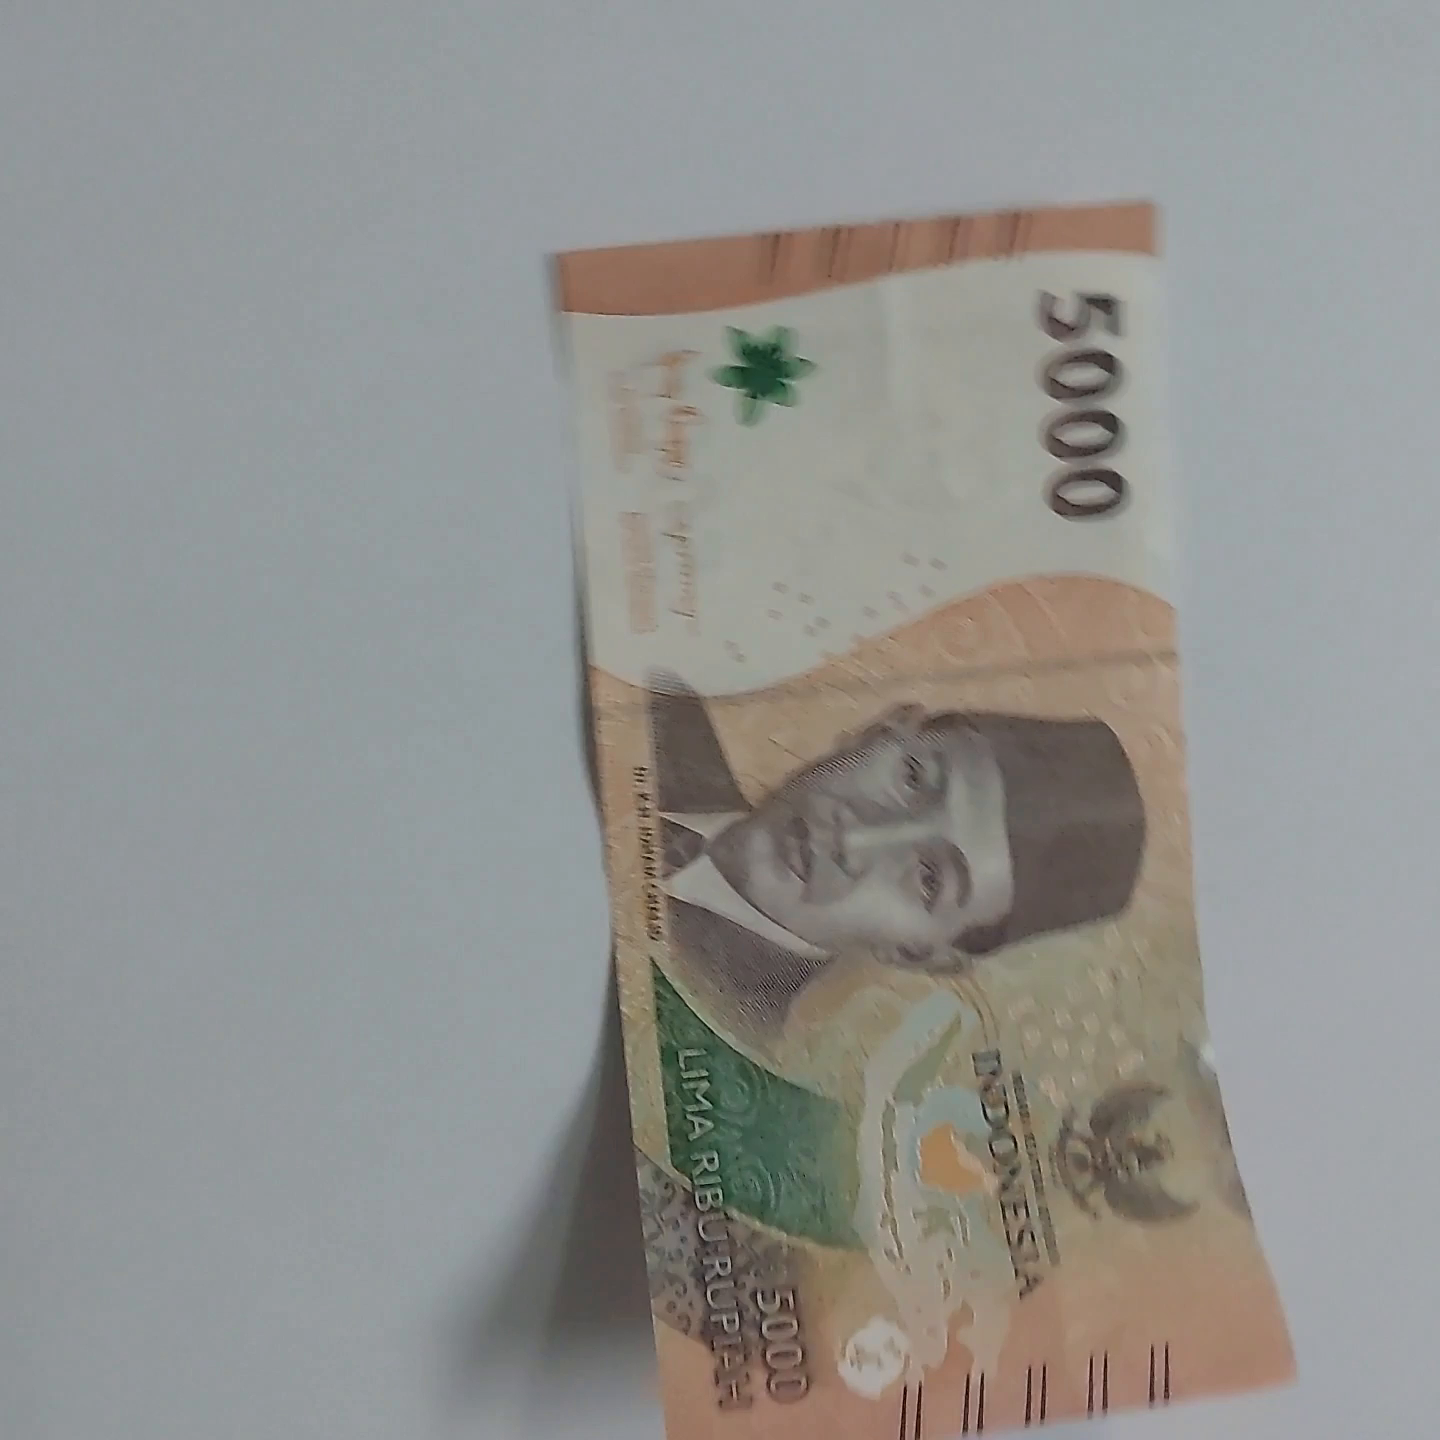5k: (487, 135, 1319, 1440)
